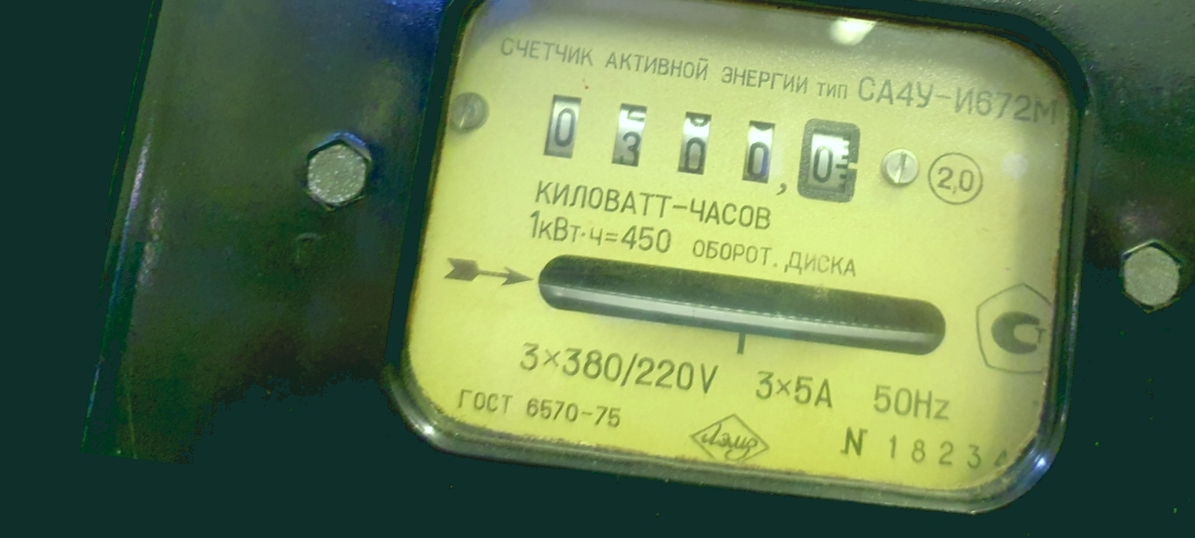0: (551, 101, 579, 150), (744, 136, 773, 182), (808, 140, 837, 185), (680, 132, 708, 175)
3: (616, 126, 643, 167)
screen: (520, 68, 884, 221)
